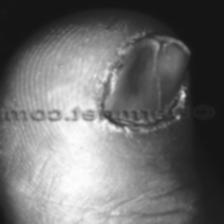Toxin: (59, 29, 178, 107)
